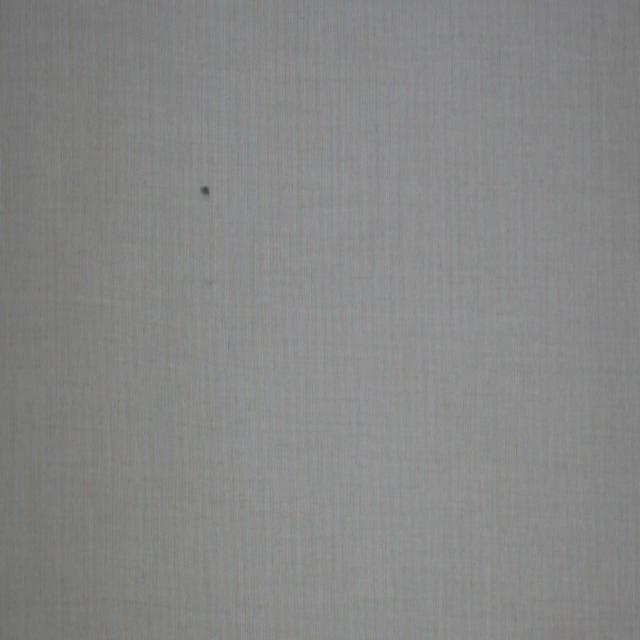dirty: (200, 183, 212, 198)
